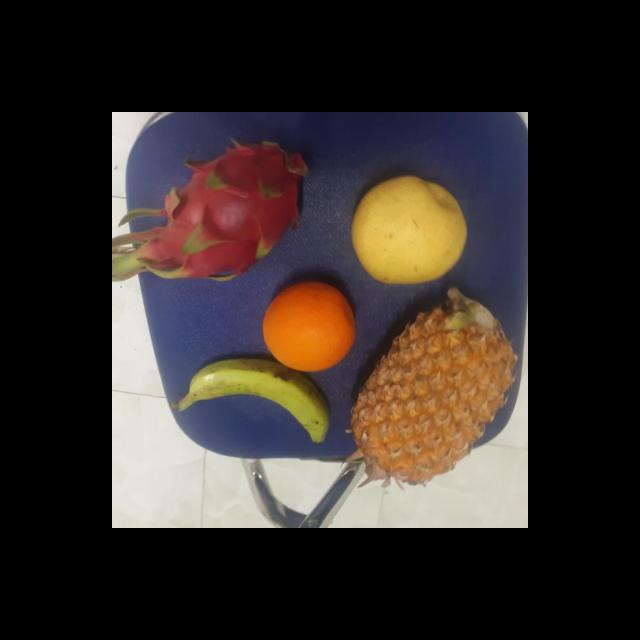banana: (185, 358, 338, 453)
orange: (261, 280, 359, 370)
pear: (348, 174, 473, 286)
pineapple: (351, 296, 519, 479)
pitaya: (145, 138, 316, 282)
